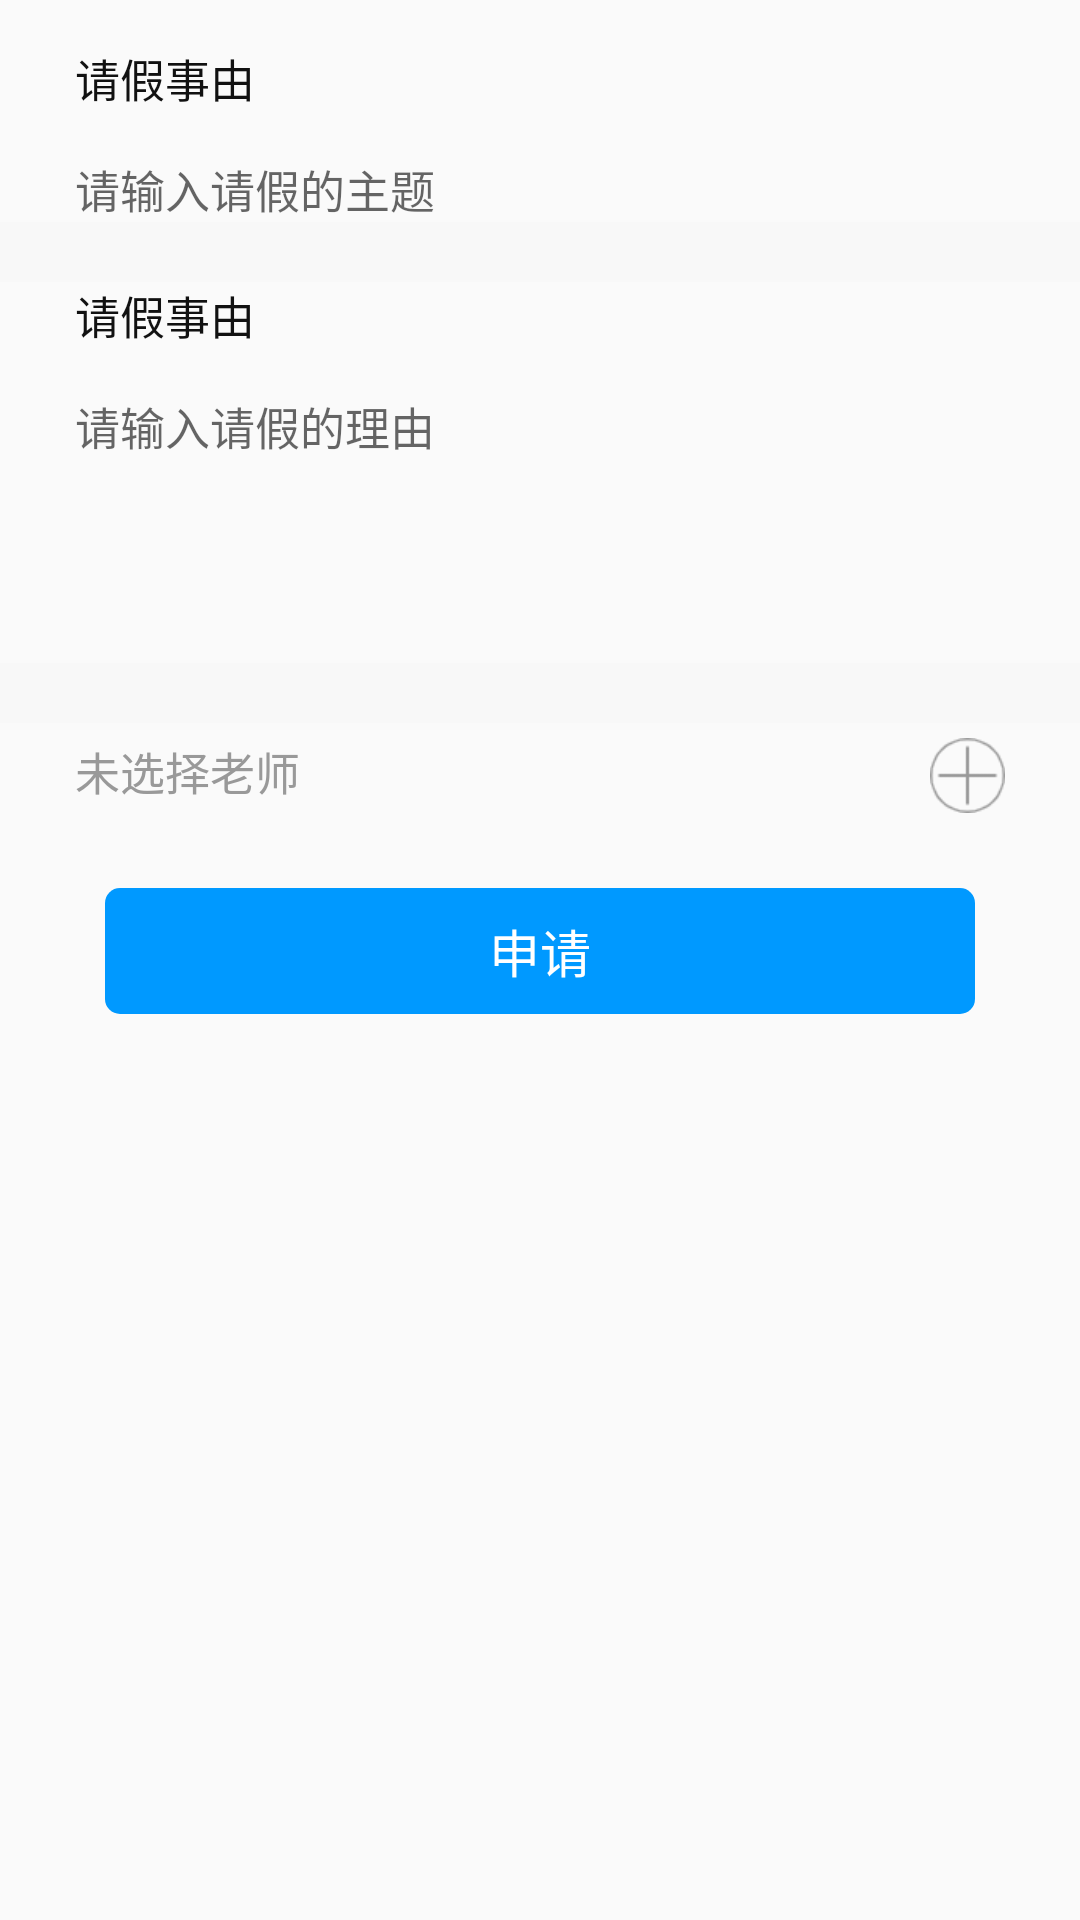

Point at icon controls on the screen. Image size 1080 × 1920, points as point (x, y).
add: point (967, 775)
